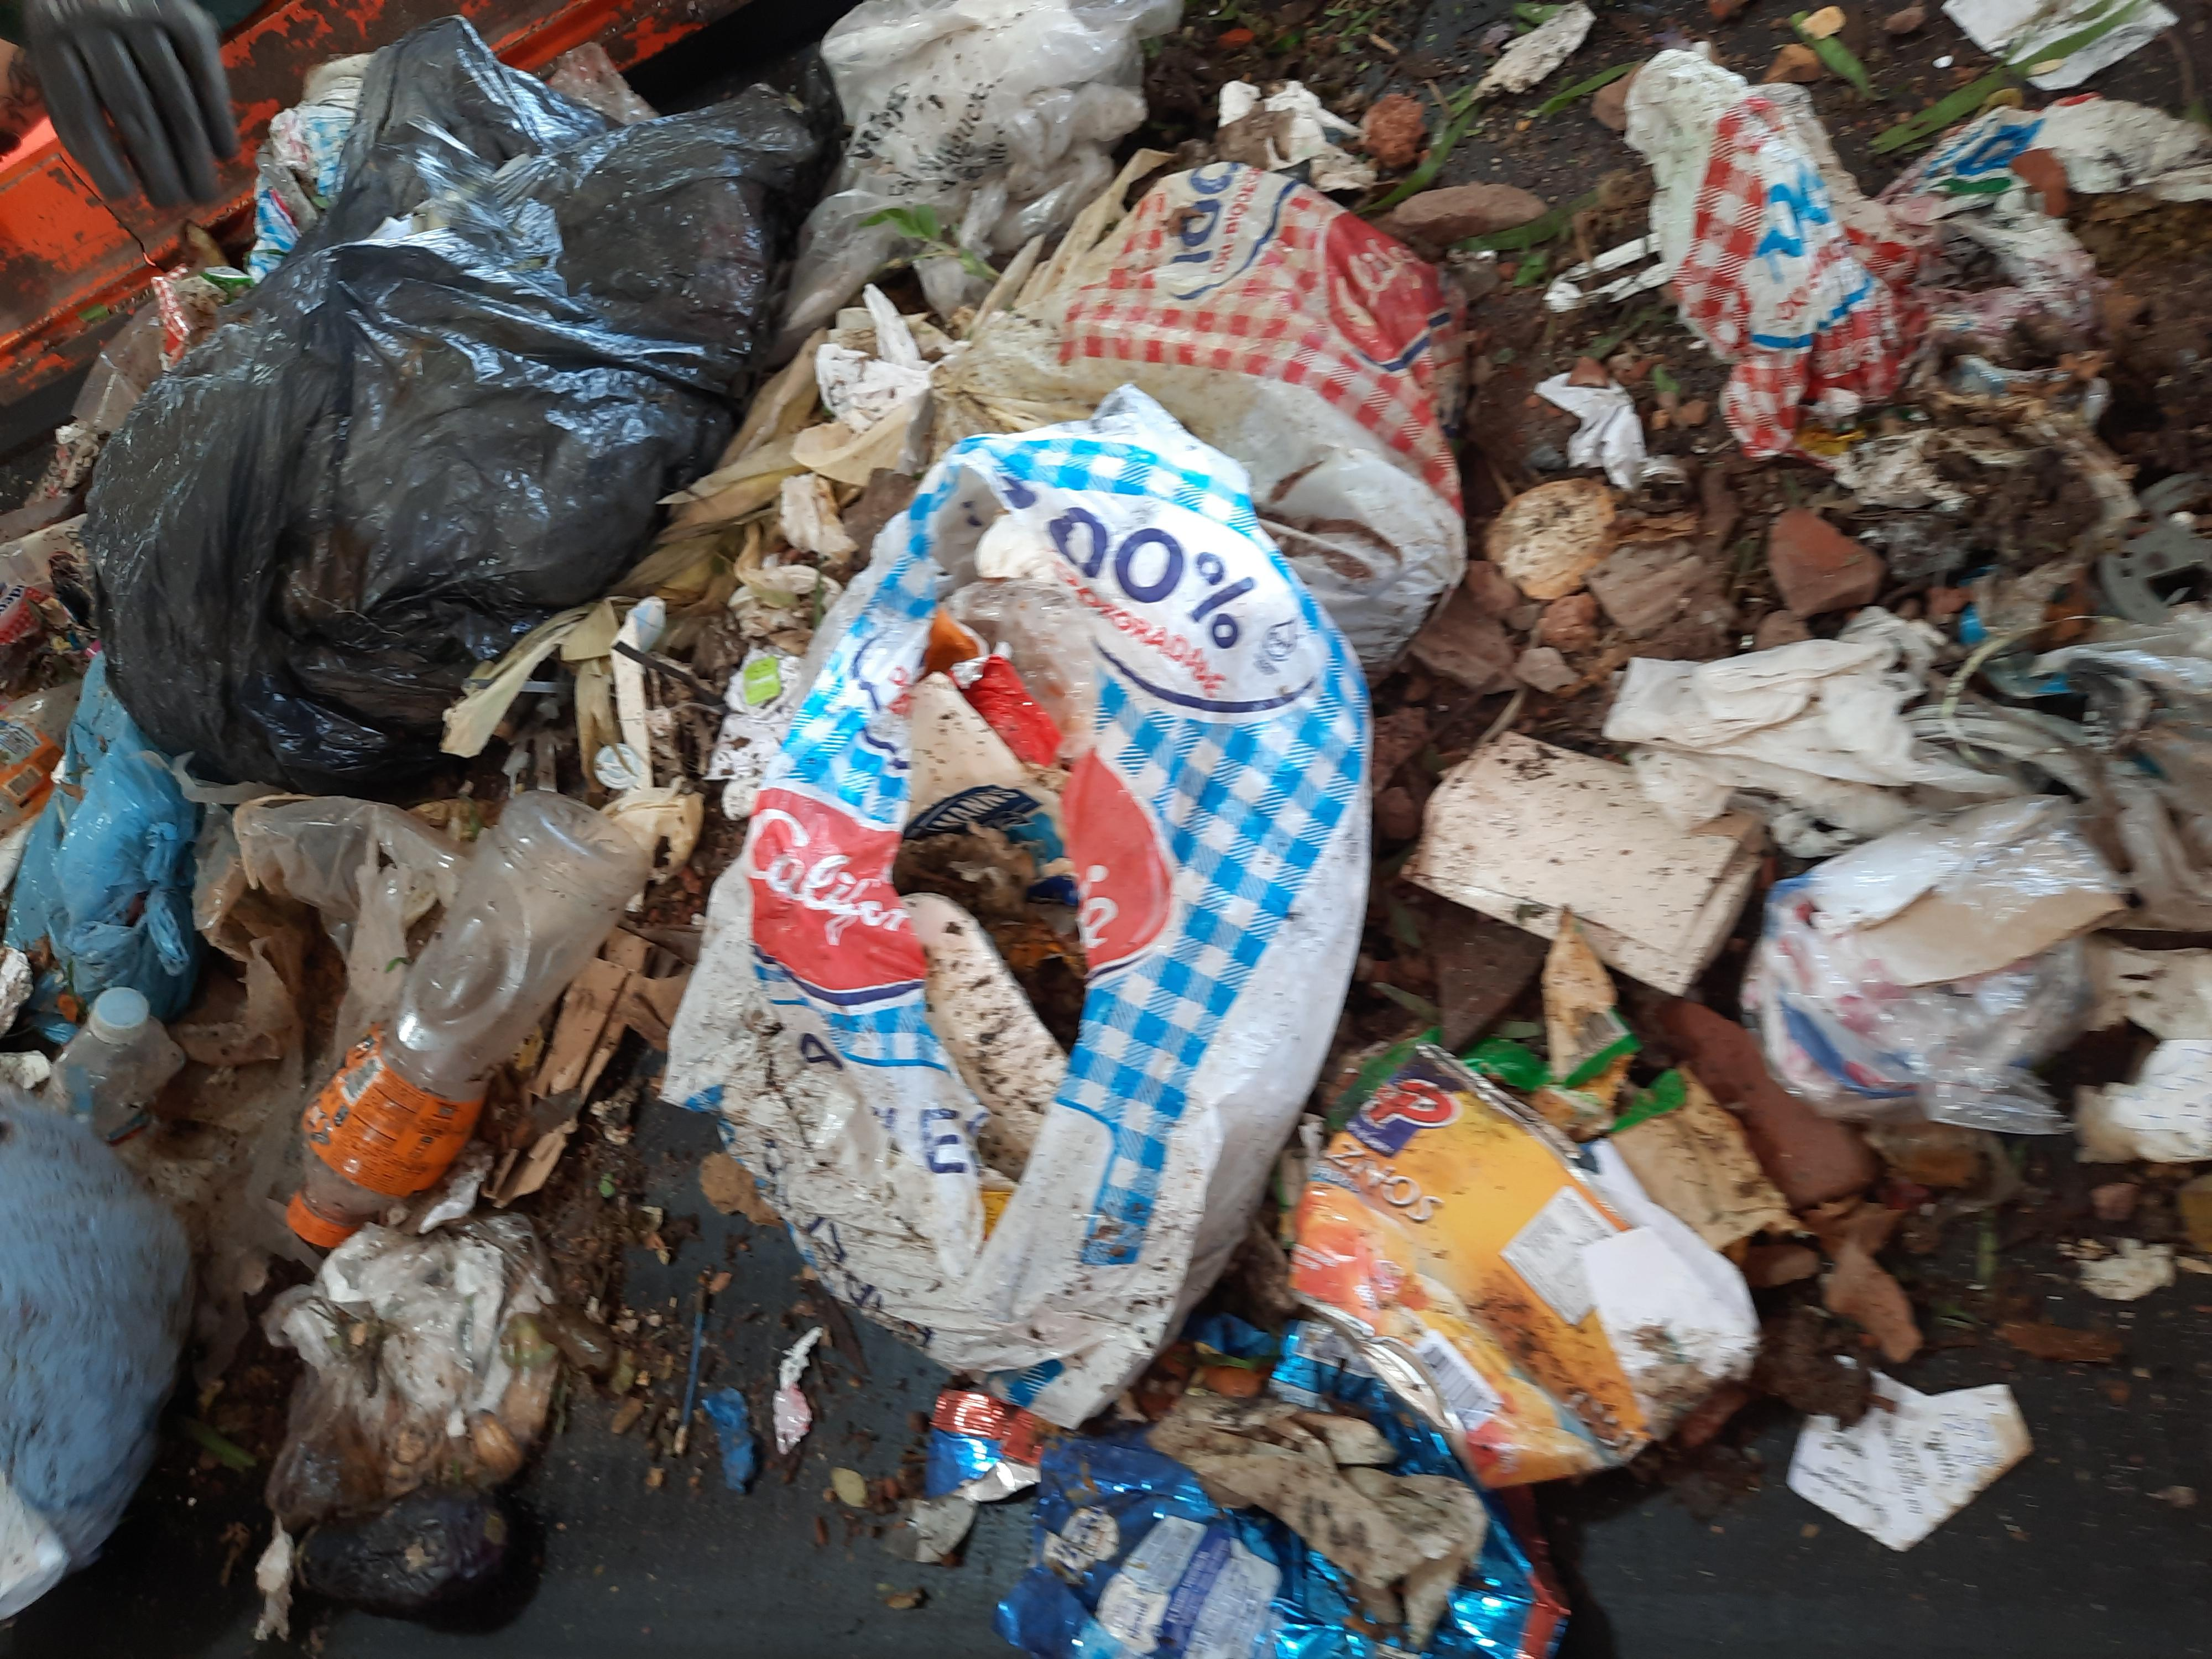bottle: (550, 258, 1184, 427), (624, 42, 911, 139)
